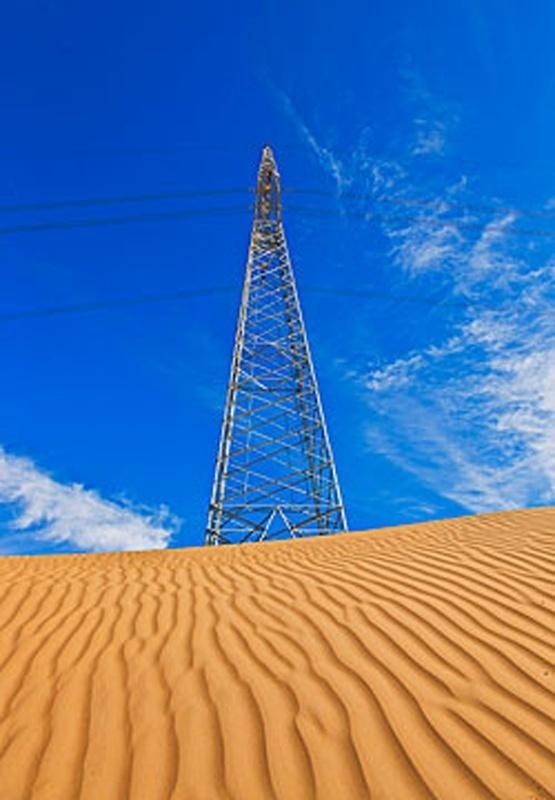power_tower: (207, 140, 352, 542)
